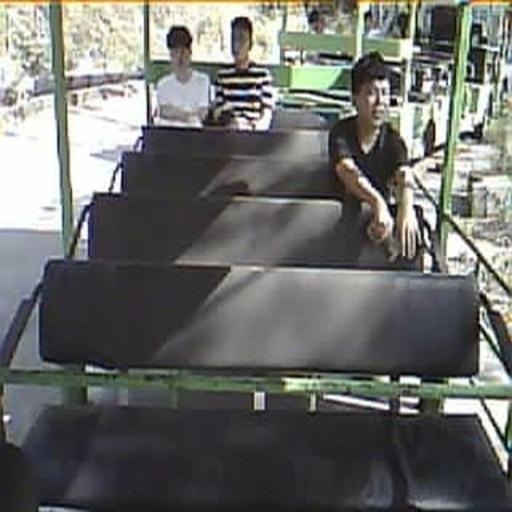persona: (328, 49, 424, 262), (212, 15, 278, 133), (153, 24, 212, 124)
